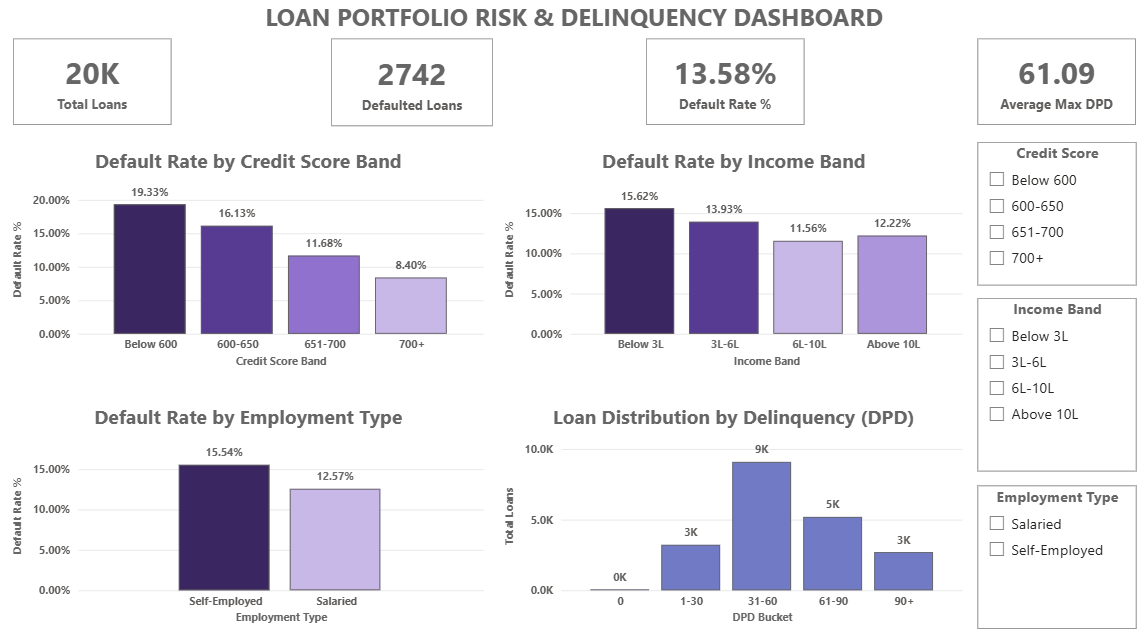

The dashboard page shown, as its layout file describes it:
{"tool":"powerbi","page":{"name":"Page 1","canvas":[1280,720],"ordinal":0},"visuals":[{"type":"card","fields":{"Values":["loan_portfolio_analysis.Total Loans"]},"box":[16,48,176,96],"z":0},{"type":"card","fields":{"Values":["loan_portfolio_analysis.Defaulted Loans"]},"box":[370.7,48,180,97],"z":1000},{"type":"card","fields":{"Values":["loan_portfolio_analysis.Default Rate %"]},"box":[720,48,176,96],"z":2000},{"type":"card","fields":{"Values":["loan_portfolio_analysis.Average Max DPD"]},"box":[1088,48,176,96],"z":3000},{"type":"clusteredColumnChart","title":"Default Rate by Credit Score Band","fields":{"Category":["loan_portfolio_analysis.Credit Score Band"],"Y":["loan_portfolio_analysis.Default Rate %"]},"box":[11.1,163.8,532.9,256.1],"z":4000},{"type":"clusteredColumnChart","title":"Default Rate by Income Band","fields":{"Category":["loan_portfolio_analysis.Income Band"],"Y":["loan_portfolio_analysis.Default Rate %"]},"box":[558.3,163.8,518.5,256.1],"z":5000},{"type":"clusteredColumnChart","title":"Default Rate by Employment Type","fields":{"Category":["loan_portfolio_analysis.employment_type"],"Y":["loan_portfolio_analysis.Default Rate %"]},"box":[11.1,448.6,532.9,256.1],"z":6000},{"type":"clusteredColumnChart","title":"Loan Distribution by Delinquency (DPD)","fields":{"Category":["loan_portfolio_analysis.DPD Bucket"],"Y":["loan_portfolio_analysis.Total Loans"]},"box":[558.3,448.6,518.5,256.1],"z":7000},{"type":"slicer","title":"Credit Score","fields":{"Values":["loan_portfolio_analysis.Credit Score Band"]},"box":[1088,163.8,176.6,159.1],"z":8000},{"type":"slicer","title":"Income Band","fields":{"Values":["loan_portfolio_analysis.Income Band"]},"box":[1088,337.2,176.6,192.5],"z":9000},{"type":"slicer","title":"Employment Type","fields":{"Values":["loan_portfolio_analysis.employment_type"]},"box":[1088,545.6,176.6,159.1],"z":10000},{"type":"textbox","box":[0,0,1280,48],"z":11000}]}

Visuals, with their boxes in screenshot pixels (x1, y1, x2, y2), scaled from the page's 1280x720 canvas onto the 1148x642 screenshot:
card - loan_portfolio_analysis.Total Loans: x1=14 y1=43 x2=172 y2=128
card - loan_portfolio_analysis.Defaulted Loans: x1=332 y1=43 x2=494 y2=129
card - loan_portfolio_analysis.Default Rate %: x1=646 y1=43 x2=804 y2=128
card - loan_portfolio_analysis.Average Max DPD: x1=976 y1=43 x2=1134 y2=128
"Default Rate by Credit Score Band" clusteredColumnChart: x1=10 y1=146 x2=488 y2=374
"Default Rate by Income Band" clusteredColumnChart: x1=501 y1=146 x2=966 y2=374
"Default Rate by Employment Type" clusteredColumnChart: x1=10 y1=400 x2=488 y2=628
"Loan Distribution by Delinquency (DPD)" clusteredColumnChart: x1=501 y1=400 x2=966 y2=628
"Credit Score" slicer: x1=976 y1=146 x2=1134 y2=288
"Income Band" slicer: x1=976 y1=301 x2=1134 y2=472
"Employment Type" slicer: x1=976 y1=486 x2=1134 y2=628
textbox: x1=0 y1=0 x2=1147 y2=43
